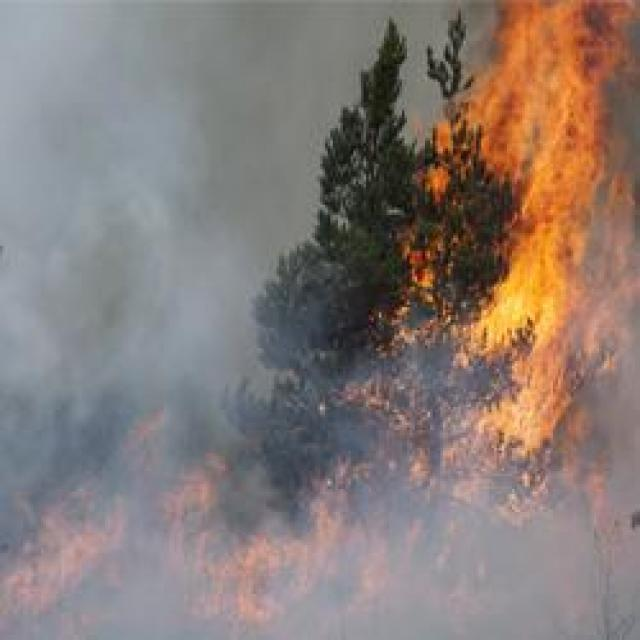fire: (510, 23, 598, 126), (530, 126, 592, 216), (521, 236, 564, 314), (512, 396, 548, 443), (499, 290, 522, 324)
smoke: (176, 0, 312, 239), (491, 518, 640, 640), (45, 183, 149, 348), (1, 292, 122, 410), (323, 568, 504, 640), (168, 229, 248, 374), (84, 537, 171, 640), (0, 358, 54, 494), (112, 447, 164, 584), (599, 360, 640, 517)
